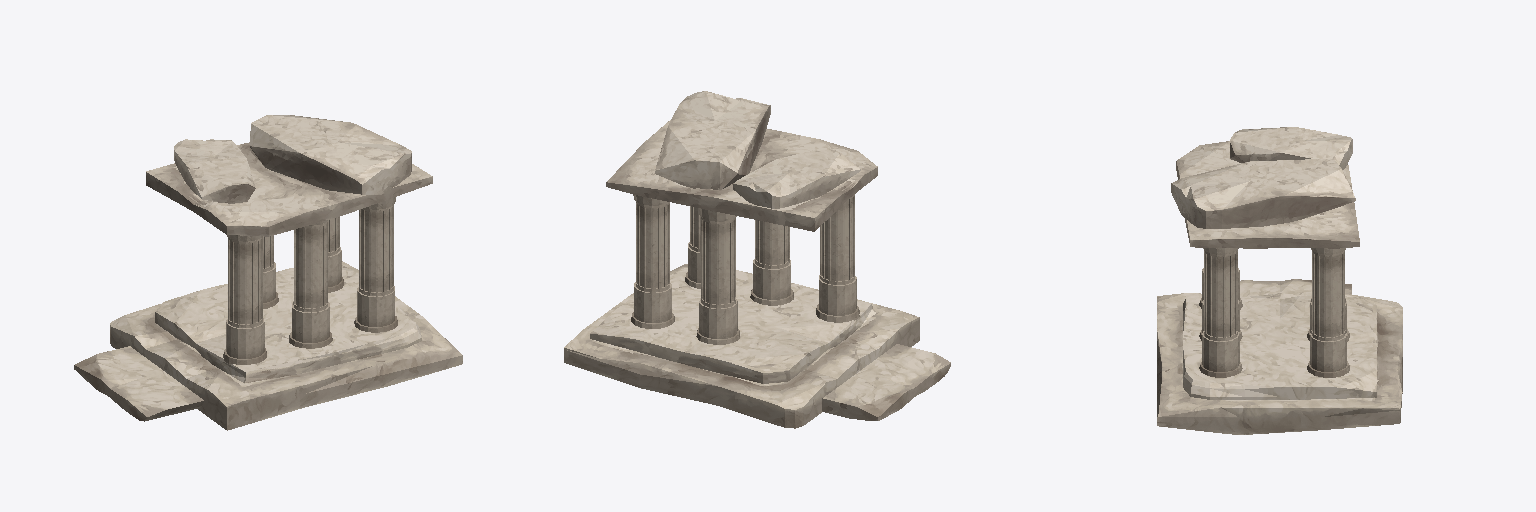
3 renders of one model, left to right at view 1: azimuth 30°, elevation 25°; view 2: azimuth 150°, elevation 25°; view 3: azimuth 270°, elevation 25°, orthographic.
Parts seen in each view (by area): view 1: Cylinder.022; view 2: Cylinder.022; view 3: Cylinder.022.
Boxes of the visible parts, box(x1,y1,x2,y2) form: Cylinder.022: box(74, 115, 462, 430); Cylinder.022: box(564, 91, 950, 428); Cylinder.022: box(1157, 127, 1402, 434).
Bounding box in the file's own units: 46.84 × 33.05 × 34.01.
3 materials, 3 textured.